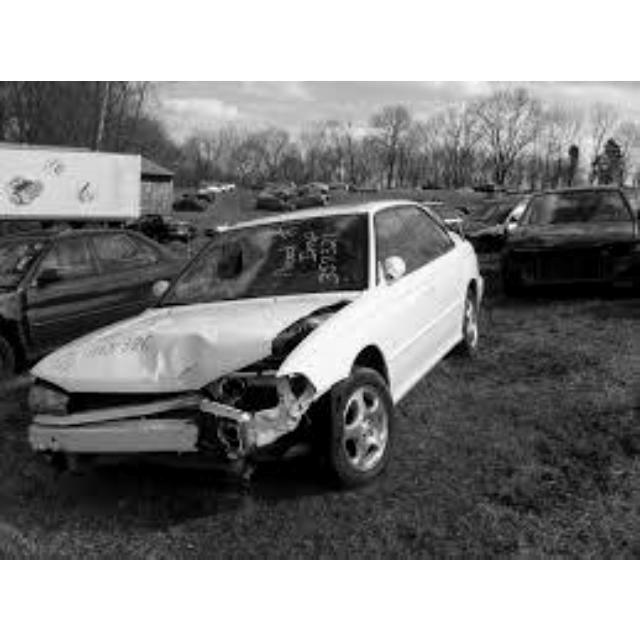Headlight-damage: (210, 367, 296, 426)
bonnet-dent: (77, 286, 287, 384)
front-bumper-dent: (134, 397, 287, 473)
